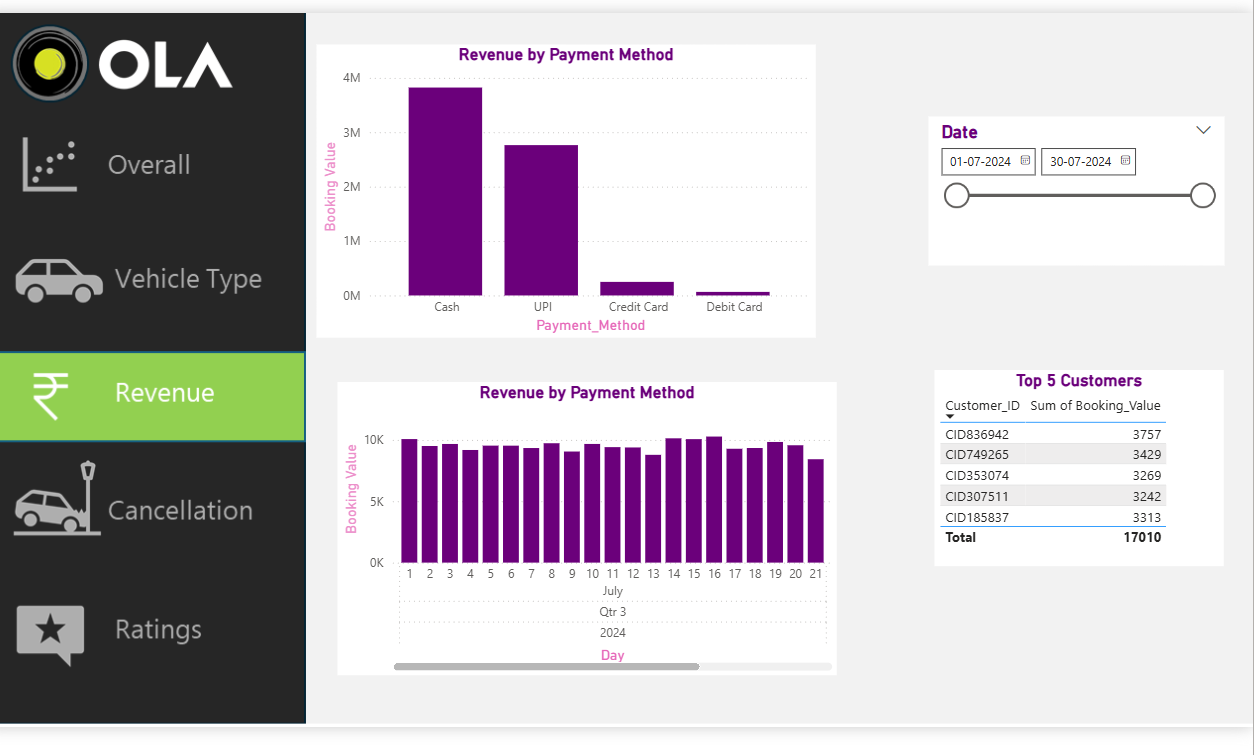

Layout of this report page (visuals, bound fields, positions):
{"tool":"powerbi","page":{"name":"Revenue","canvas":[1280,720],"ordinal":2},"visuals":[{"type":"actionButton","box":[11.4,230,292.9,91.4],"z":0},{"type":"actionButton","box":[12.9,348.6,292.9,71.4],"z":1000},{"type":"actionButton","box":[11.4,440,305.7,108.6],"z":2000},{"type":"actionButton","box":[12.9,585.7,231.4,82.9],"z":3000},{"type":"columnChart","title":"Revenue by Payment Method","fields":{"Y":["Sum(Bookings.Booking_Value)"],"Category":["Bookings.Payment_Method"]},"box":[334,32,504,296],"z":4000},{"type":"columnChart","title":"Revenue by Payment Method","fields":{"Y":["Sum(Bookings.Ride_Distance)"],"Category":["Bookings.Date.Variation.Date Hierarchy.Year","Bookings.Date.Variation.Date Hierarchy.Quarter","Bookings.Date.Variation.Date Hierarchy.Month","Bookings.Date.Variation.Date Hierarchy.Day"]},"box":[356,372,504,296],"z":5000},{"type":"slicer","fields":{"Values":["Bookings.Date"]},"box":[952,104,298,150],"z":6000},{"type":"tableEx","title":"Top 5 Customers","fields":{"Values":["Bookings.Customer_ID","Sum(Bookings.Booking_Value)"]},"box":[958,360,292,198],"z":7000}]}

Visuals, with their boxes on the page's 1280x720 design canvas (x1, y1, x2, y2). These are canvas units, not pixel positions in the 1260x755 screenshot, which may show the page scaled, cropped or inside an application window:
actionButton: 11 230 304 321
actionButton: 13 349 306 420
actionButton: 11 440 317 549
actionButton: 13 586 244 669
"Revenue by Payment Method" columnChart: 334 32 838 328
"Revenue by Payment Method" columnChart: 356 372 860 668
slicer - Bookings.Date: 952 104 1250 254
"Top 5 Customers" tableEx: 958 360 1250 558
